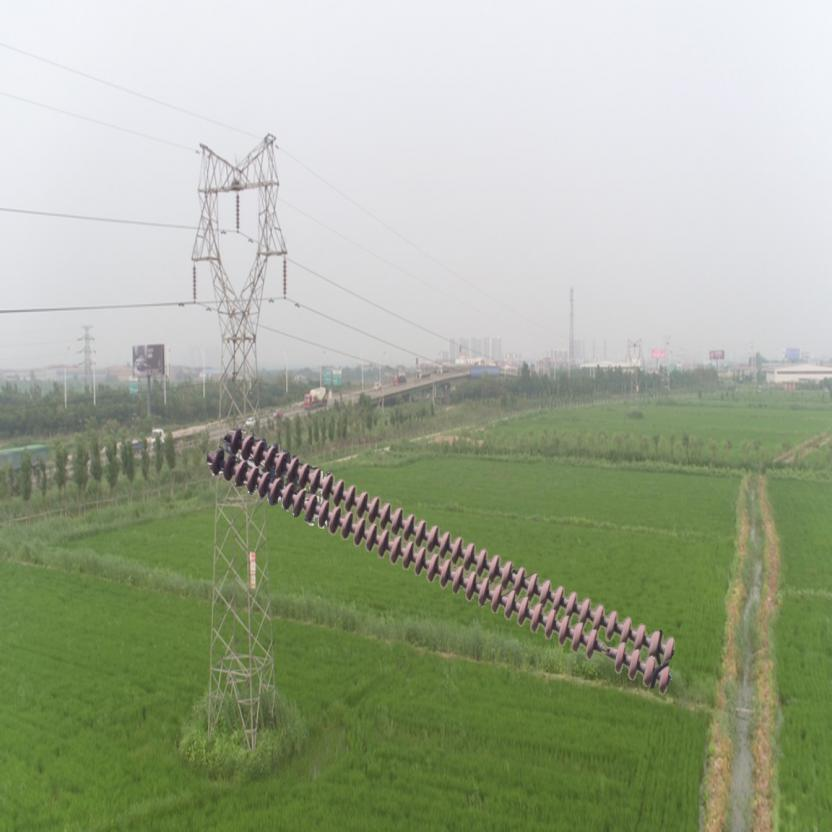defect: (584, 624, 630, 672)
